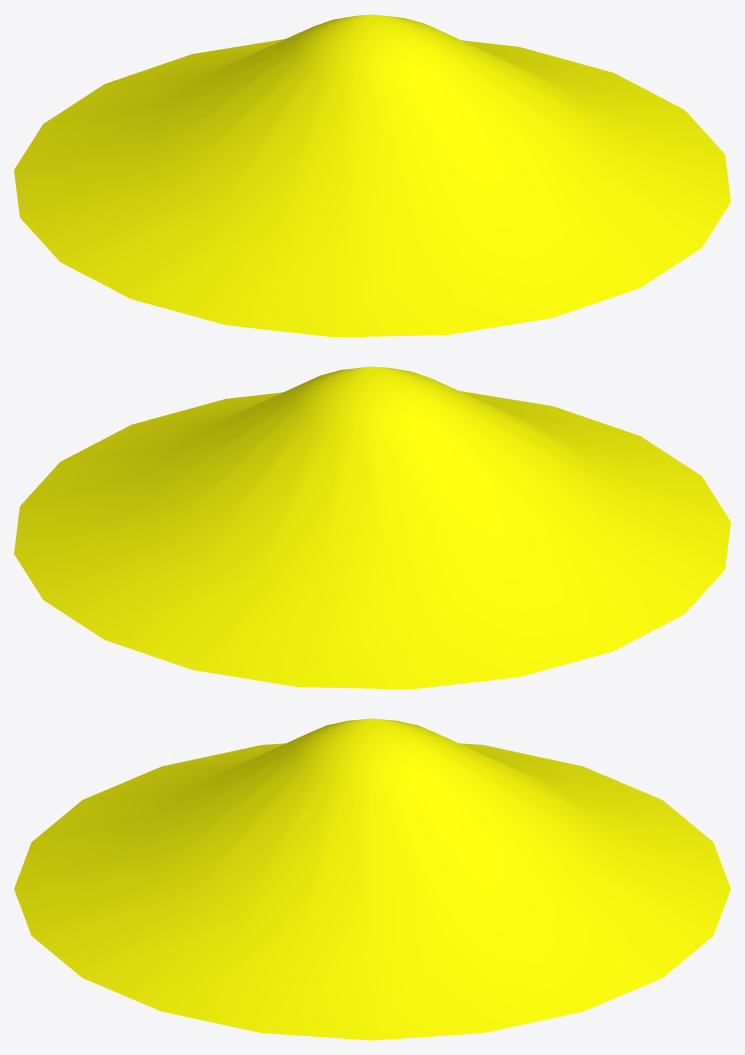
The model's file is Fake coin.fbx.
3 views of the same model, one above another, from view 1: azimuth 30°, elevation 25°; view 2: azimuth 150°, elevation 25°; view 3: azimuth 270°, elevation 25° (orthographic).
Parts seen in each view (by area): view 1: Fake_Coin7; view 2: Fake_Coin7; view 3: Fake_Coin7.
Boxes of the visible parts, left/top/right/bottom form: Fake_Coin7: left=14, top=14, right=730, bottom=337; Fake_Coin7: left=14, top=366, right=730, bottom=689; Fake_Coin7: left=14, top=718, right=730, bottom=1040.
Bounding box in the file's own units: 553 × 145 × 553.
